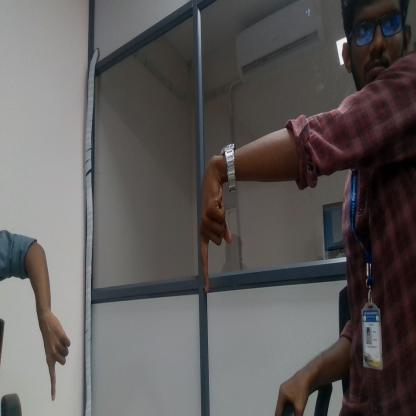Down: (191, 176, 233, 304), (39, 318, 75, 407)
